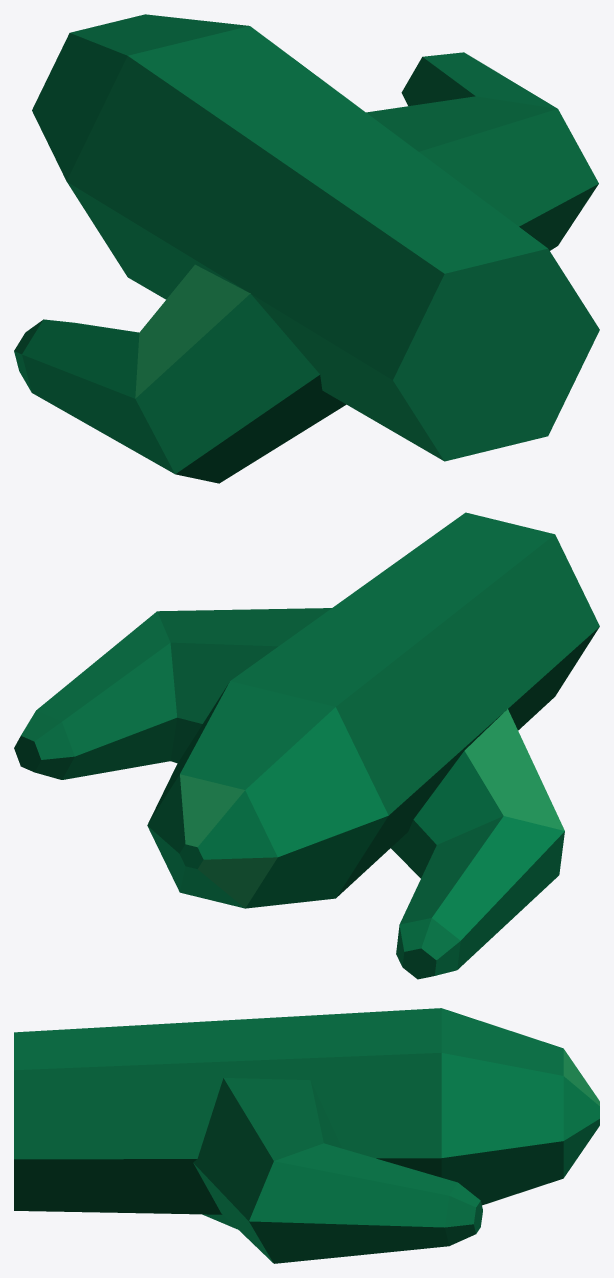
Rendered from cactus_3.fbx.
The picture shows the model from 3 angles, top to bottom: view 1: azimuth 30°, elevation 25°; view 2: azimuth 150°, elevation 25°; view 3: azimuth 270°, elevation 25°; orthographic projection. The views are drawn at different scales.
Visible parts, largest first — view 1: cactus_3; view 2: cactus_3; view 3: cactus_3.
Part boxes in pixels (x1,y1,x2,y2): cactus_3: (14,14,599,483); cactus_3: (14,512,599,979); cactus_3: (14,1008,599,1263).
Size of the model in its own units: 32.51 by 20.19 by 45.11.
